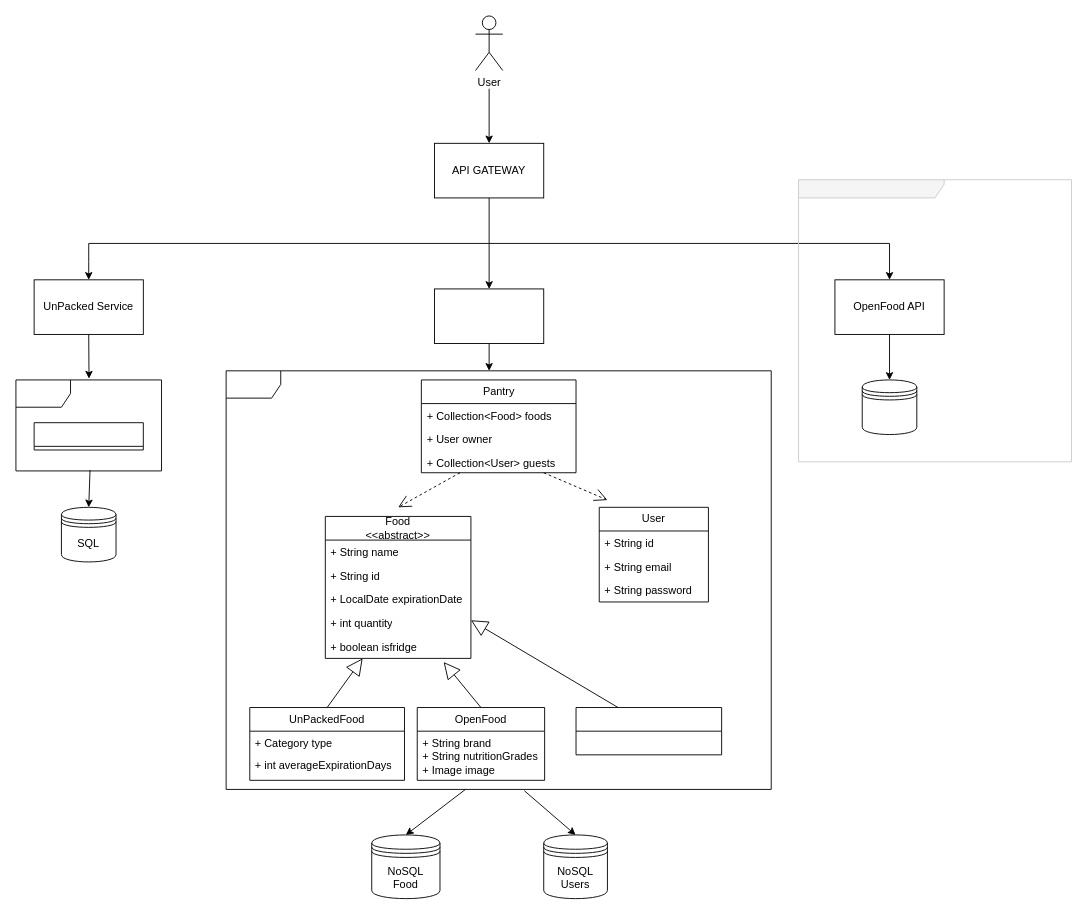
This 1087x915 diagram has some shape labels left out. Each missing label, with the centre of its shape:
"DAOUnPacked" goes at point 88,436.
"GenericFood" goes at point 648,731.
"NON GESTITO DA NOI" goes at point 935,320.
"Pantry Service" goes at point 489,316.
